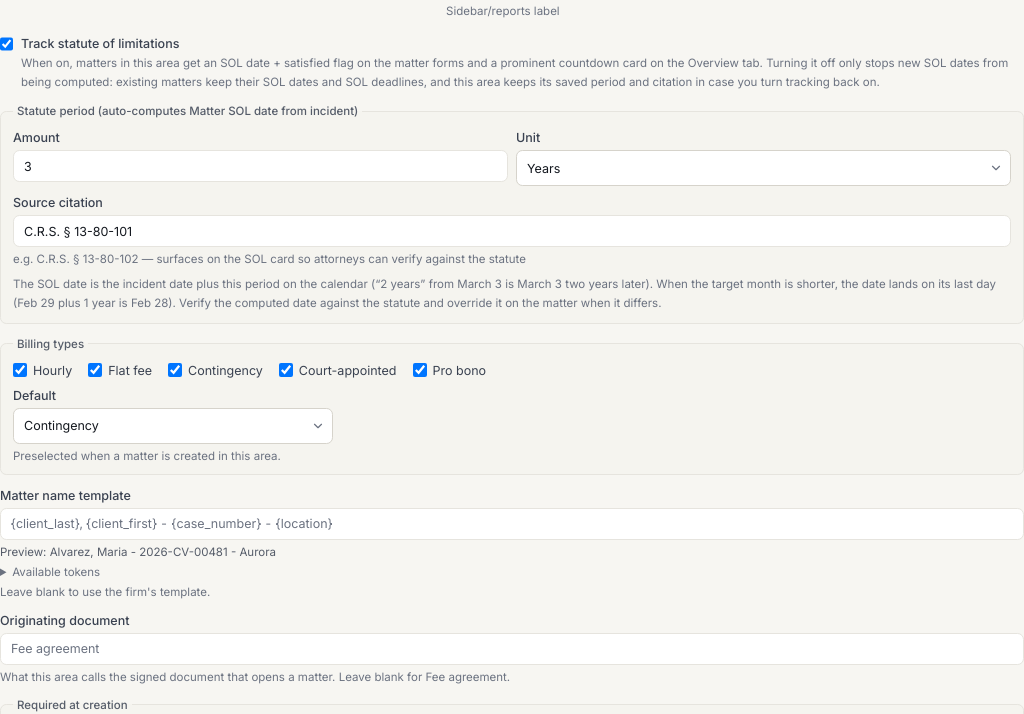
Test: EditPracticeAreaForm after a server validation error › keeps the edited SOL period, citation and unchecked toggle
Expected: the dropdown named "statutePeriodUnit" shows "Years", [516,150,1011,186]
Replace the text in the number field named "statutePeriodAmount" with "300": (260, 166) [13,150,508,182]
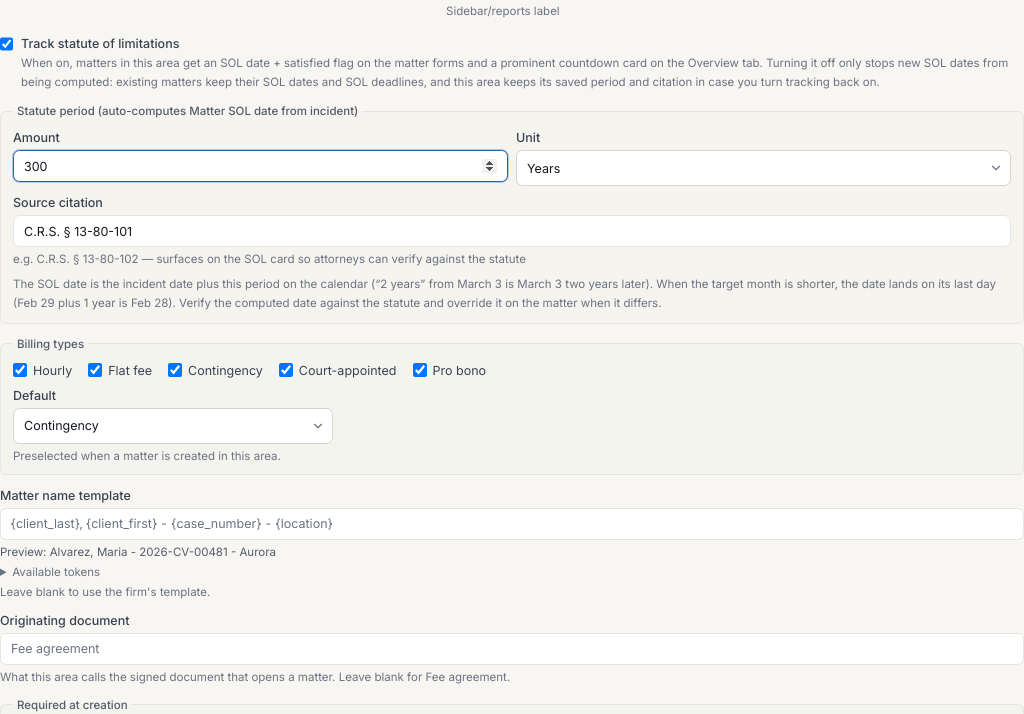
Select "Days" in the dropdown named "statutePeriodUnit": (764, 168) [516,150,1011,186]
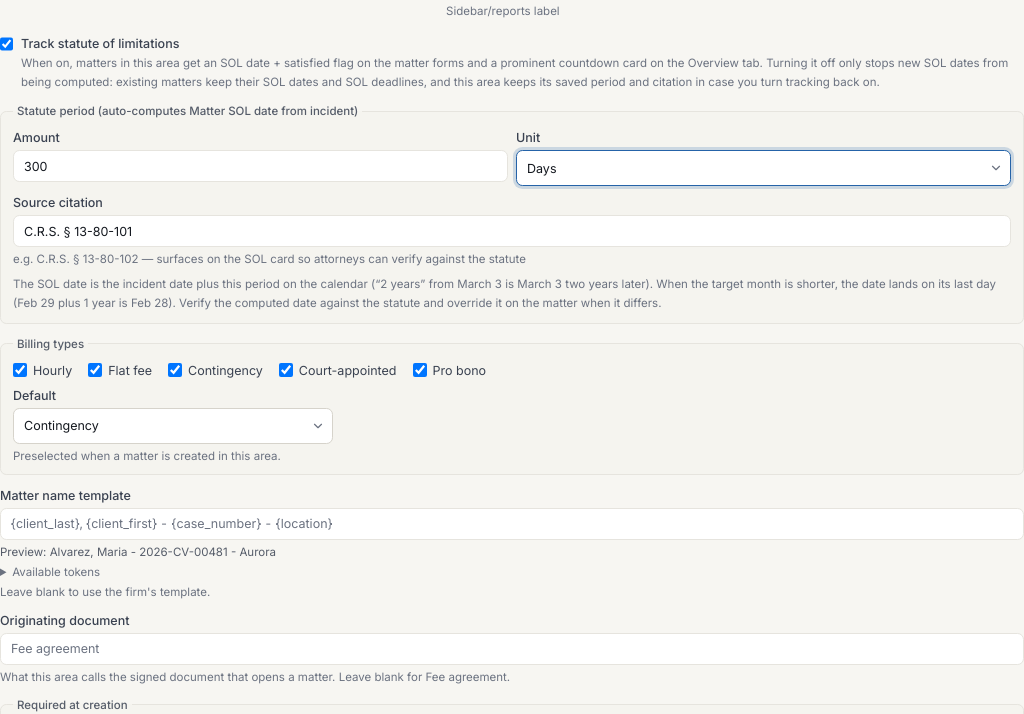
Replace the text in the field labelled "Source citation" with "C.R.S. § 13-80-102": (512, 231) [13,215,1011,247]
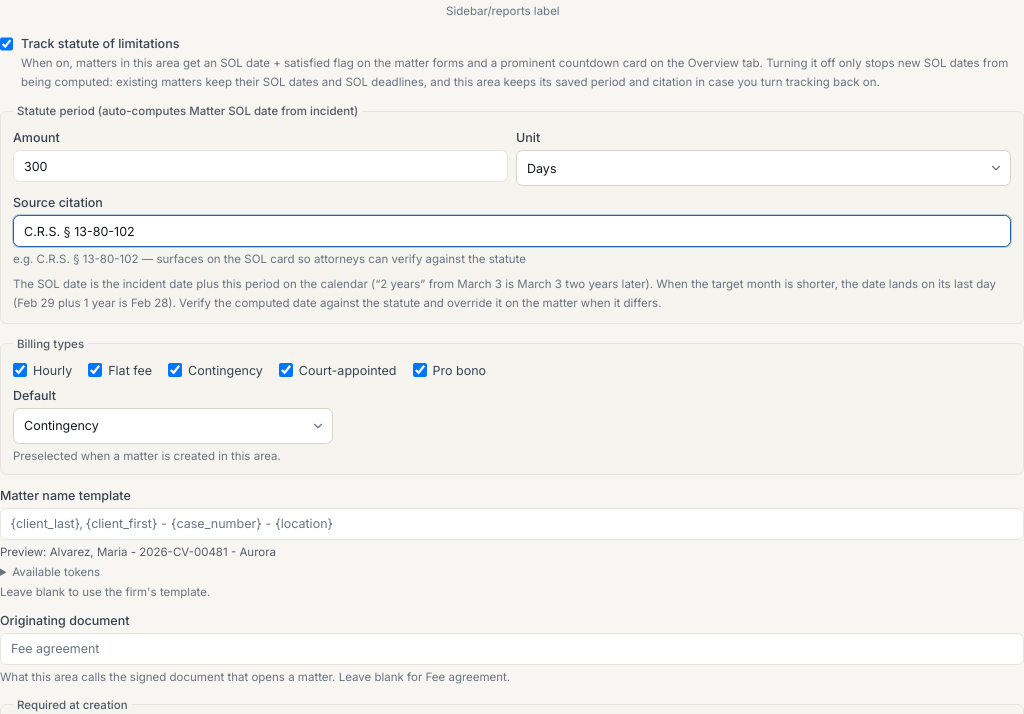
Click the checkbox labelled "Track statute of limitations": (6, 44) [0,37,13,51]
(page scrolled)
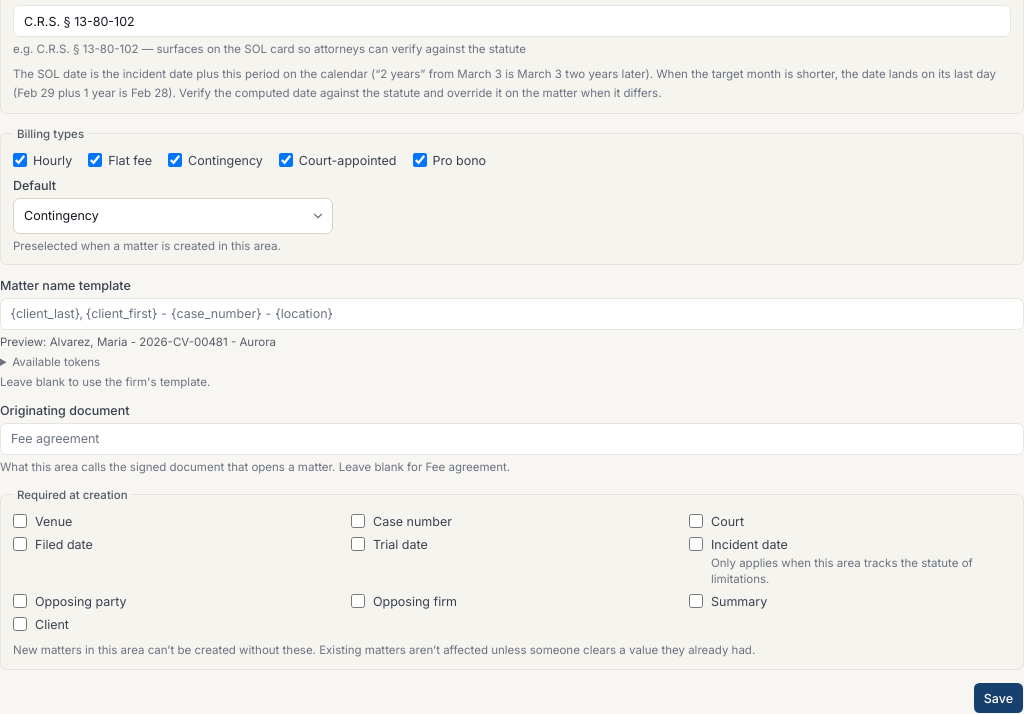
Click the button "Save": (998, 698) [973,682,1023,713]
(page scrolled)
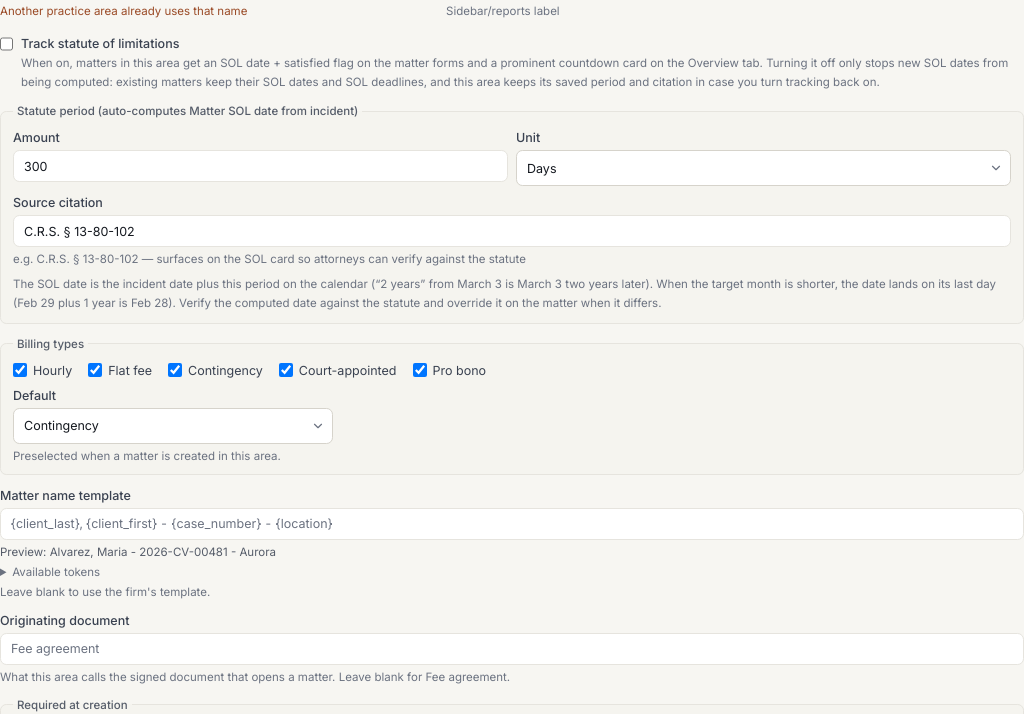
Result: the checkbox labelled "Track statute of limitations" is not checked at [0,37,13,51]
Result: the text "Another practice area already uses that name" is shown at [0,4,247,18]
